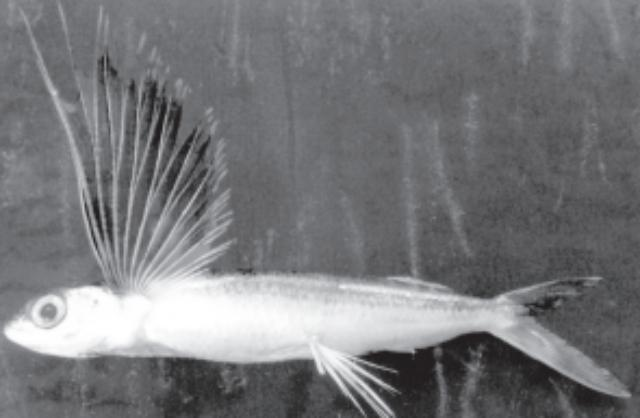Sirip Dada: (18, 0, 250, 310)
Sirip Ekor: (488, 268, 638, 412)
Sirip Perut: (298, 327, 415, 418)
